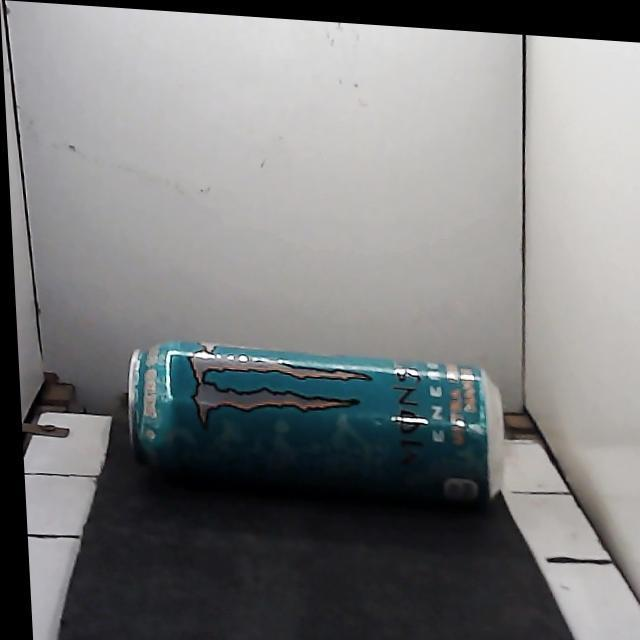metal: (128, 341, 503, 505)
